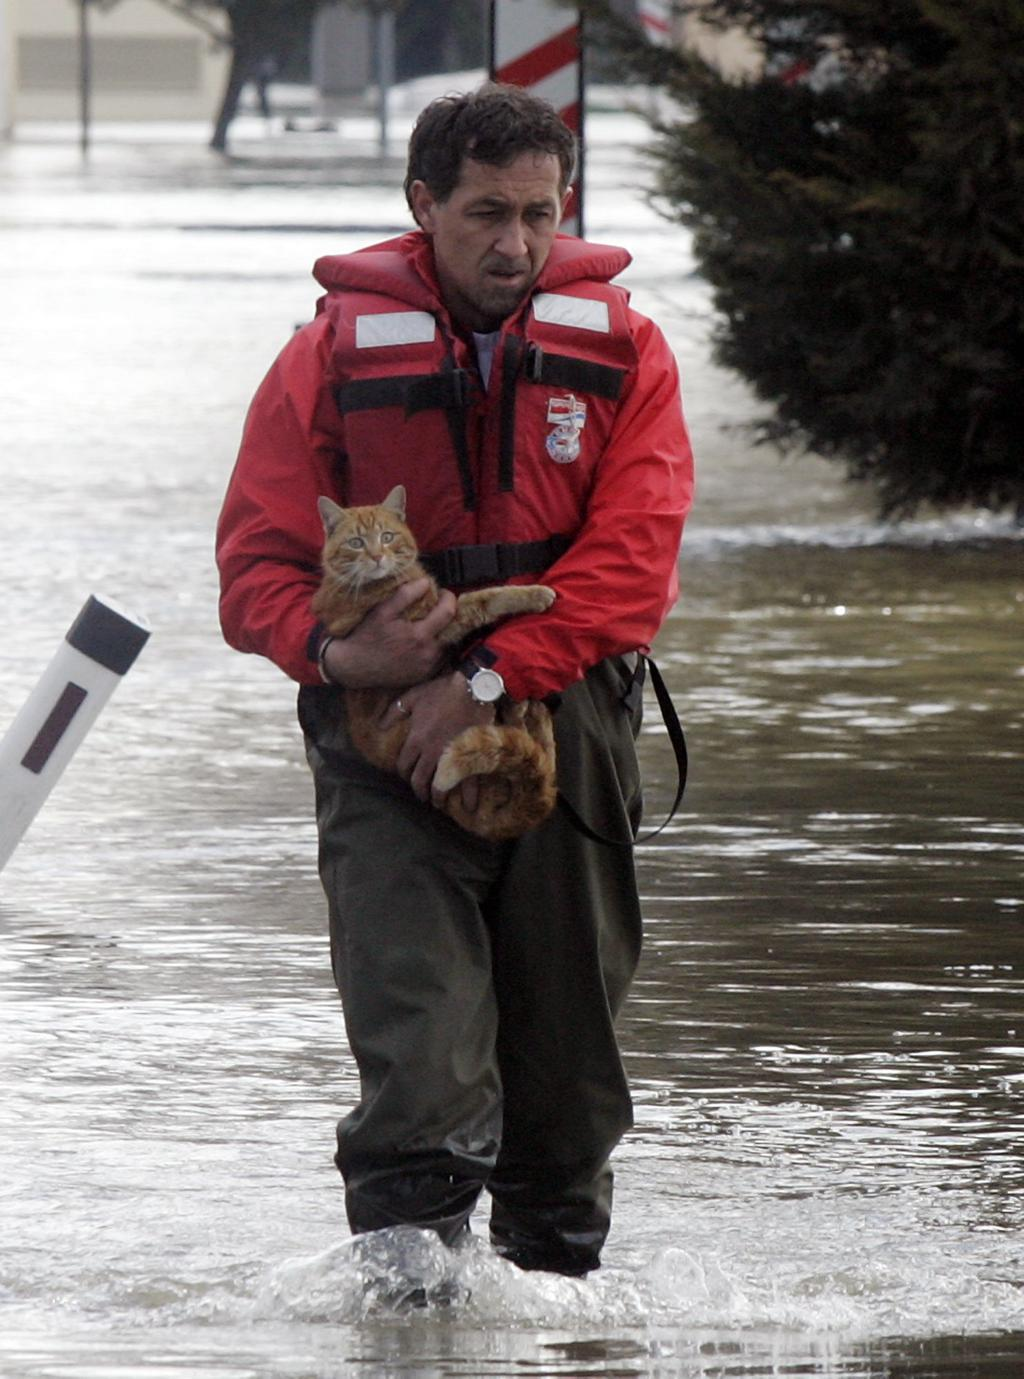face: (440, 152, 564, 300)
